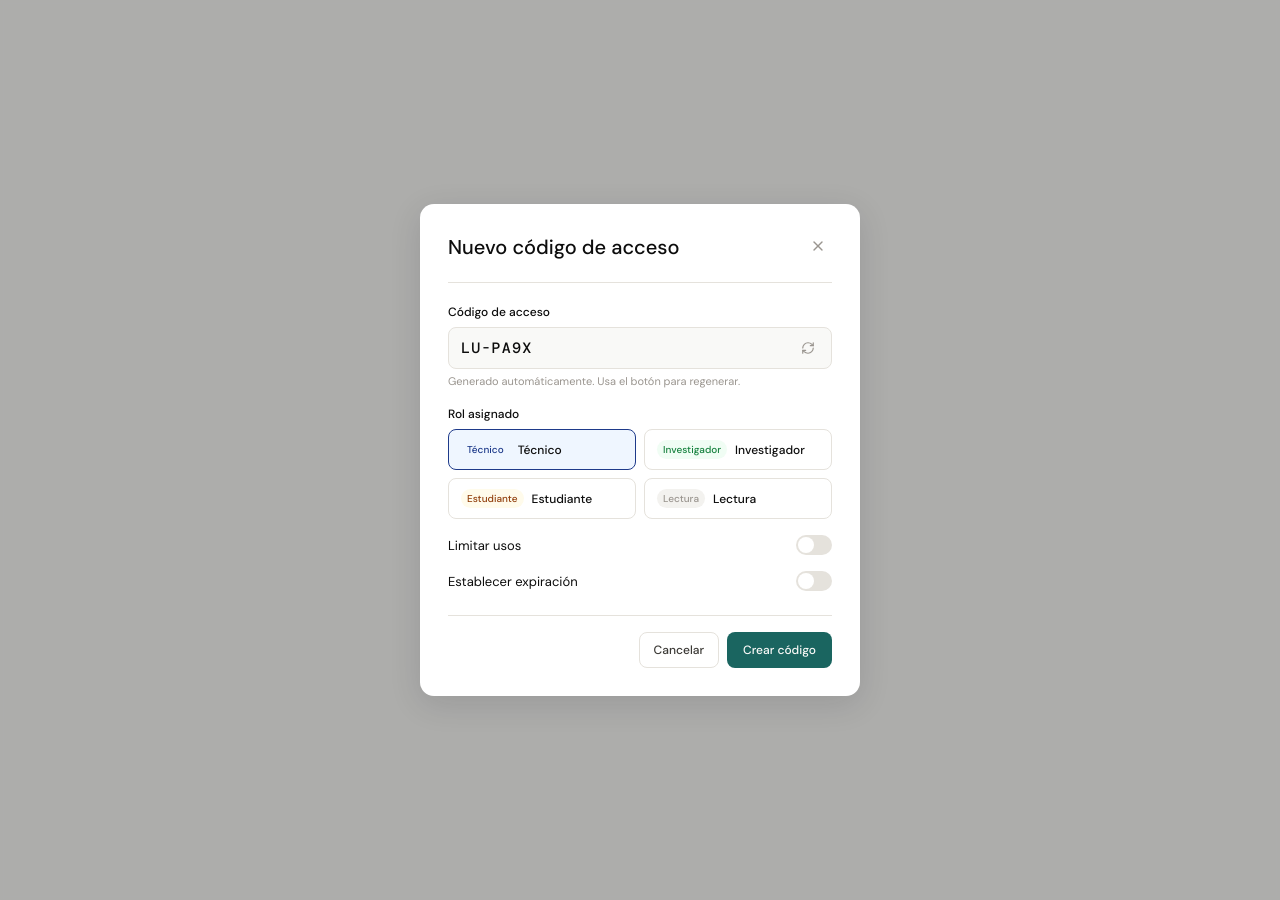
Test case: GenerarCodigoModal — form submission › shows error message when API returns an error
The image size is (1280, 900).
Expected: the text "LU-PA9X" is shown, x1=461 y1=338 x2=532 y2=358
Click the button "Crear código". click: x=780, y=650
box: x1=727 y1=632 x2=832 y2=668
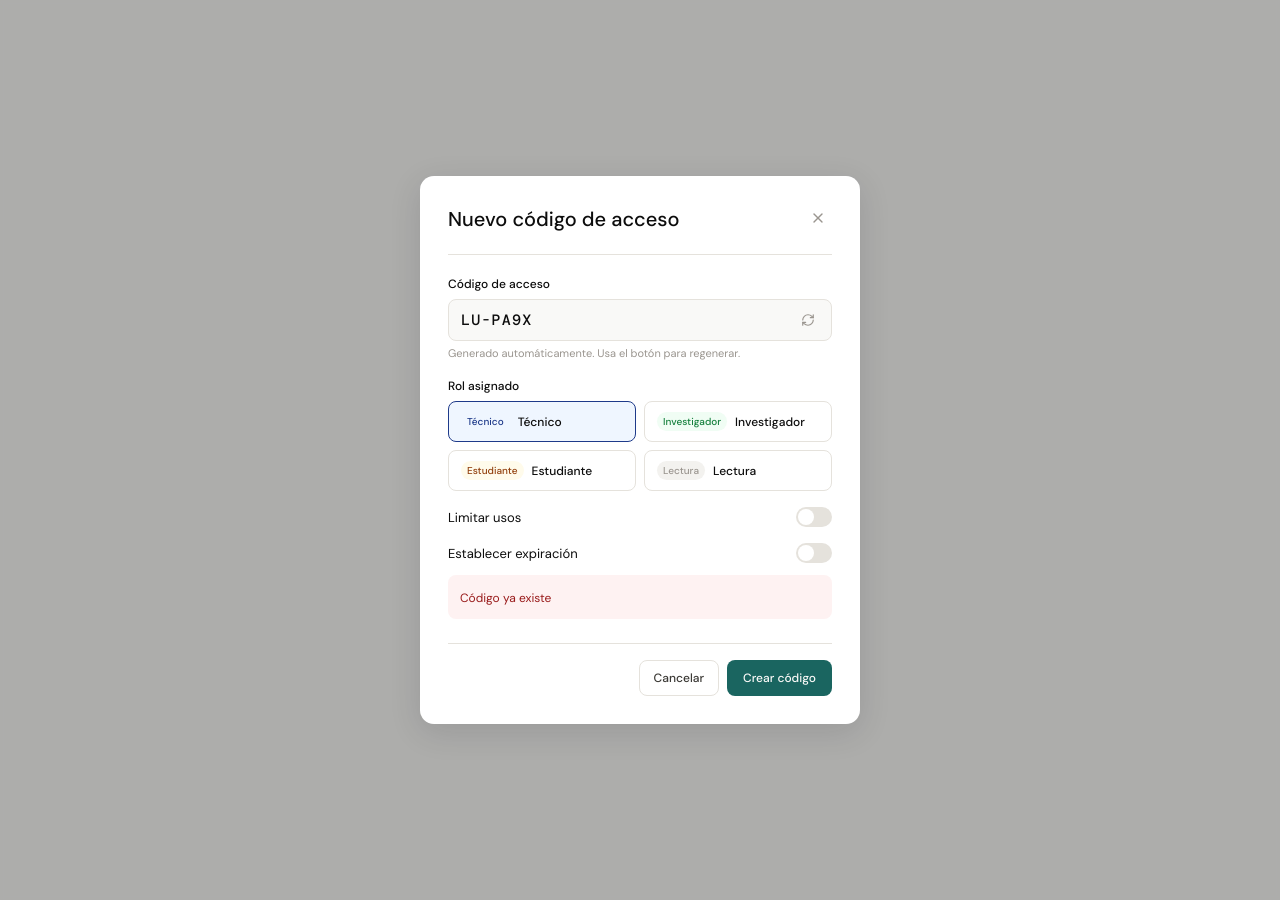
Now the text "Código ya existe" is shown, box x1=460 y1=590 x2=551 y2=606
